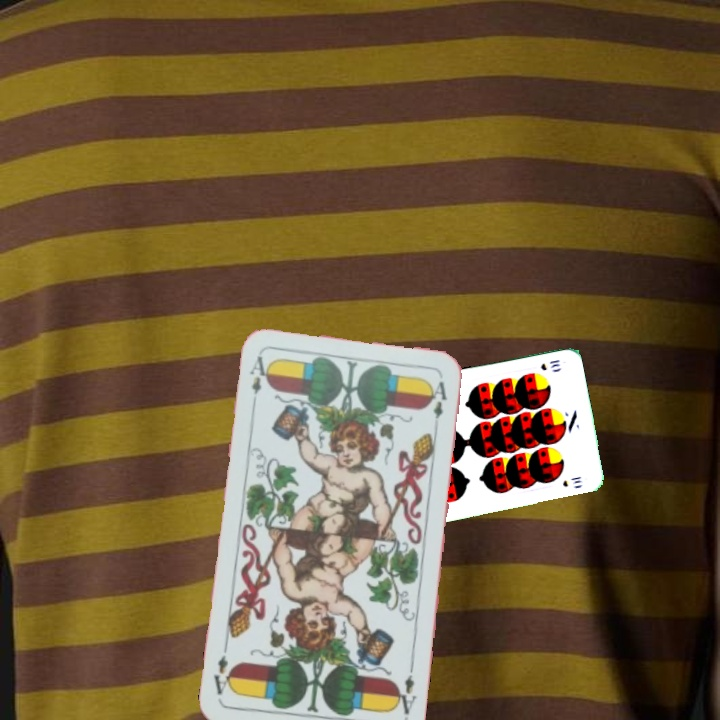EA: (391, 661, 419, 717), (246, 352, 271, 411)
S10: (536, 356, 562, 373)
